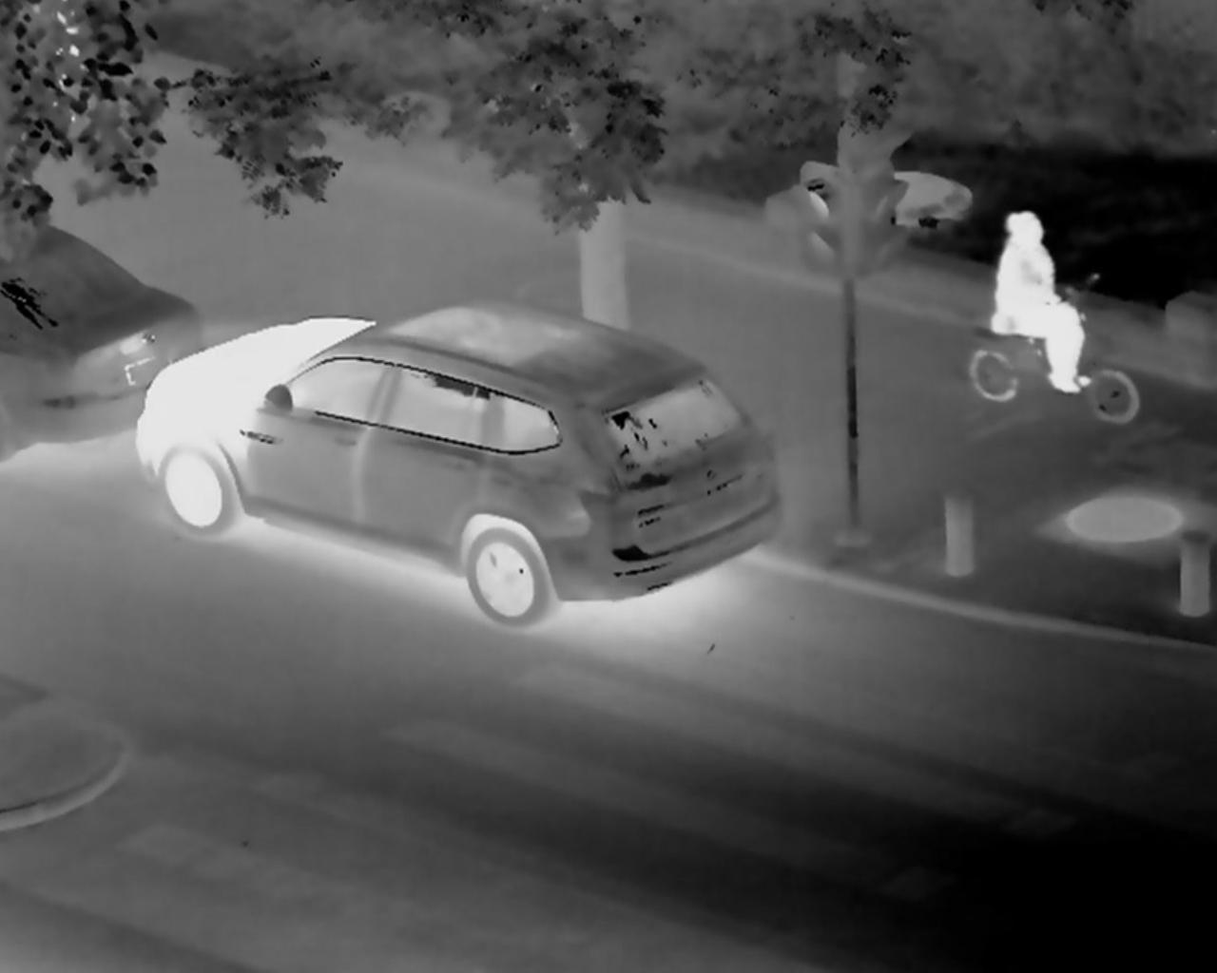person: (995, 197, 1100, 396)
